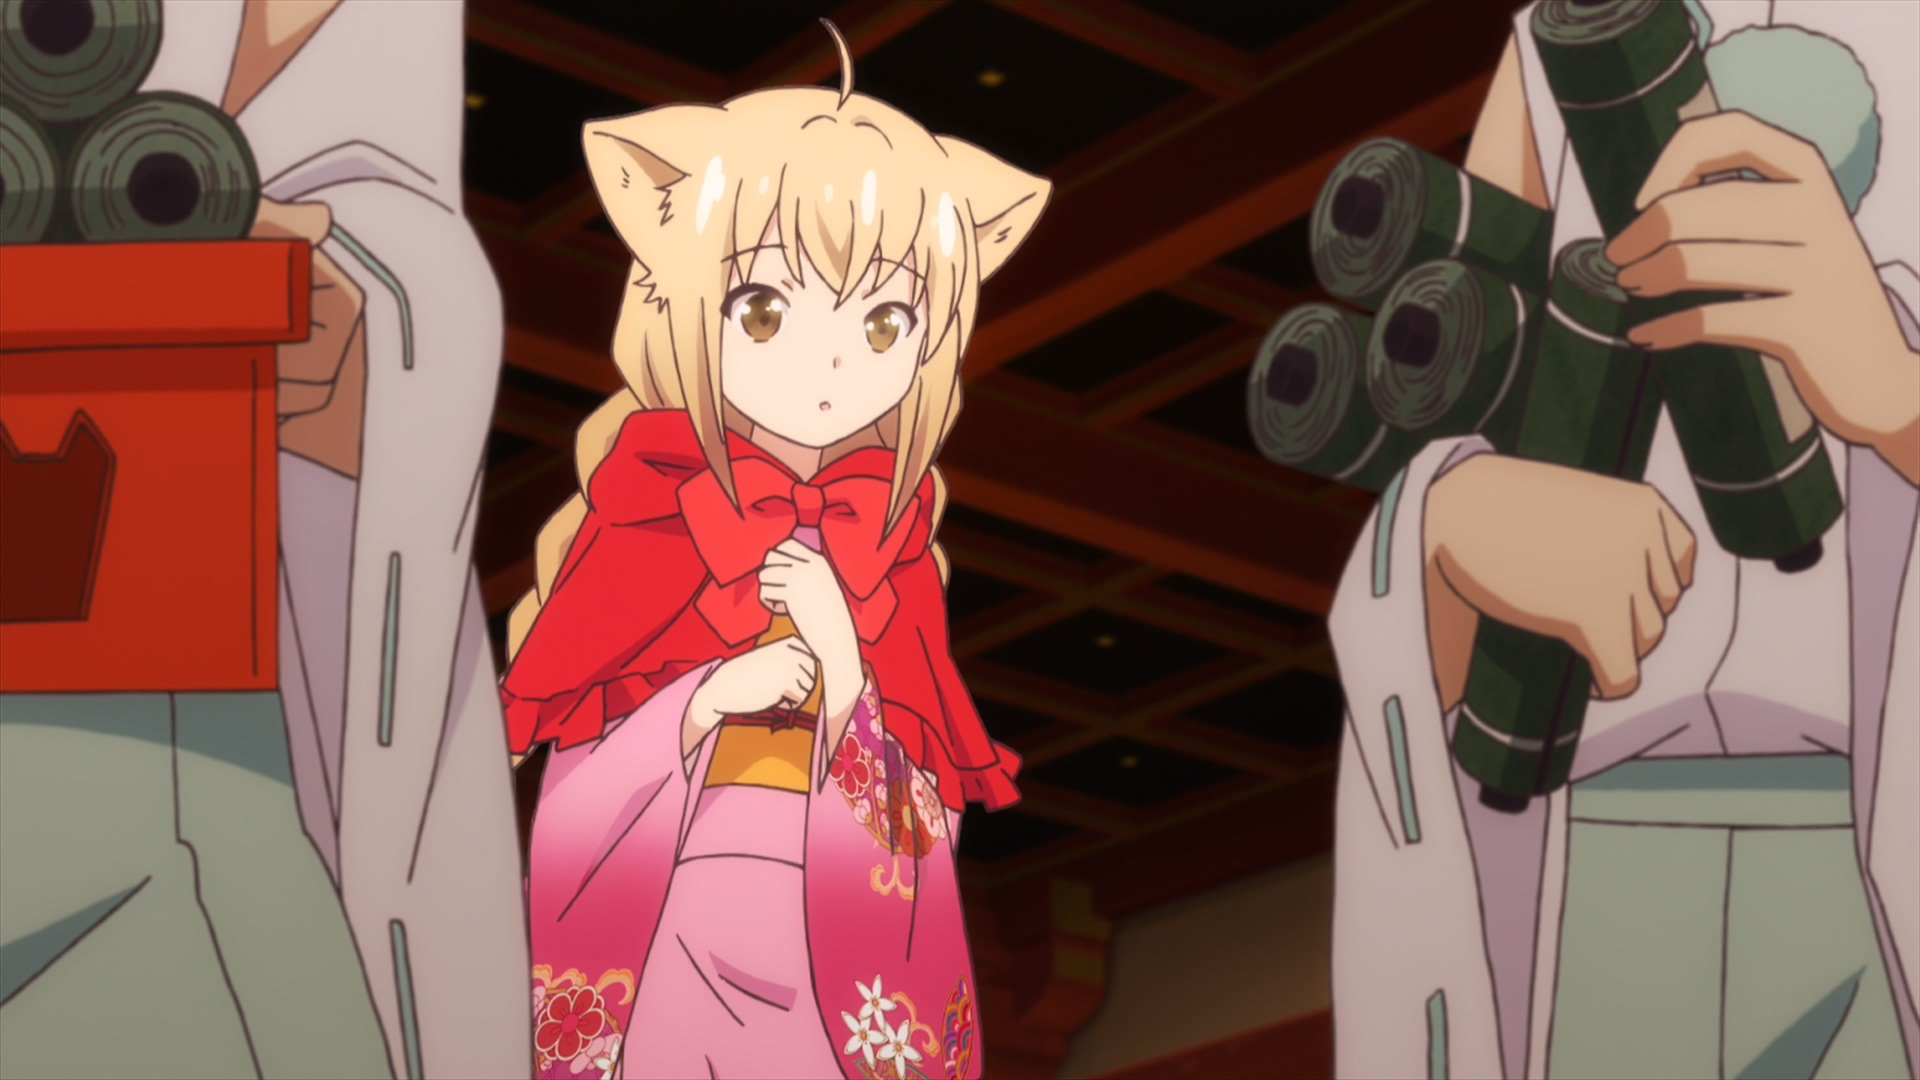其他: (1327, 1, 1920, 1080), (1, 1, 531, 1080)
柚: (497, 20, 1055, 1080)
